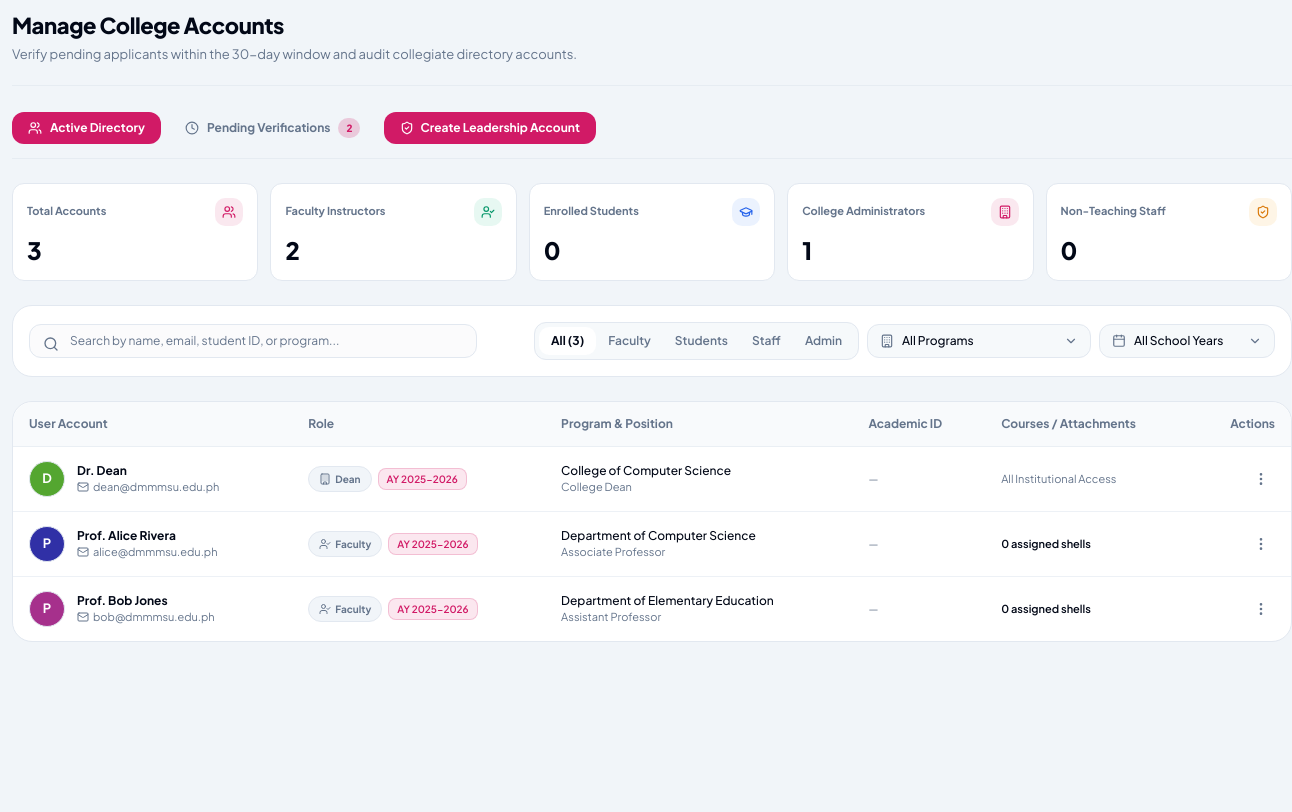
Scenario: ManageAccountsPage RBAC & Verification Queue › 4b. verifies System Administrator sees pending applicants throughout the system across all colleges
Click the tab "Pending Verifications 2" at point(273, 128), box [169, 110, 376, 146]
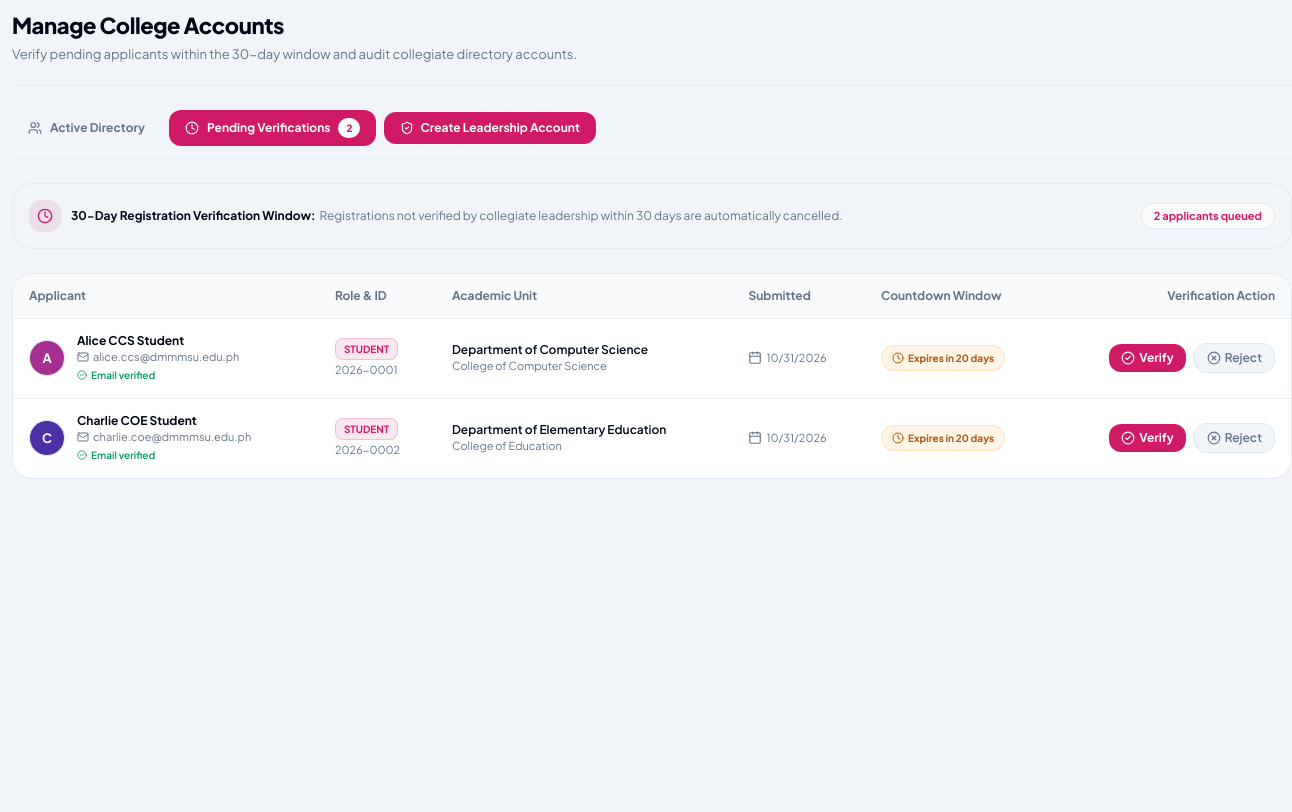
Check: the text "Alice CCS Student" is shown, box [77, 333, 184, 348]
Check: the text "Charlie COE Student" is shown, box [77, 413, 197, 428]
